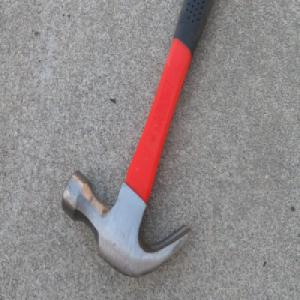Hammer: (60, 0, 219, 282)
